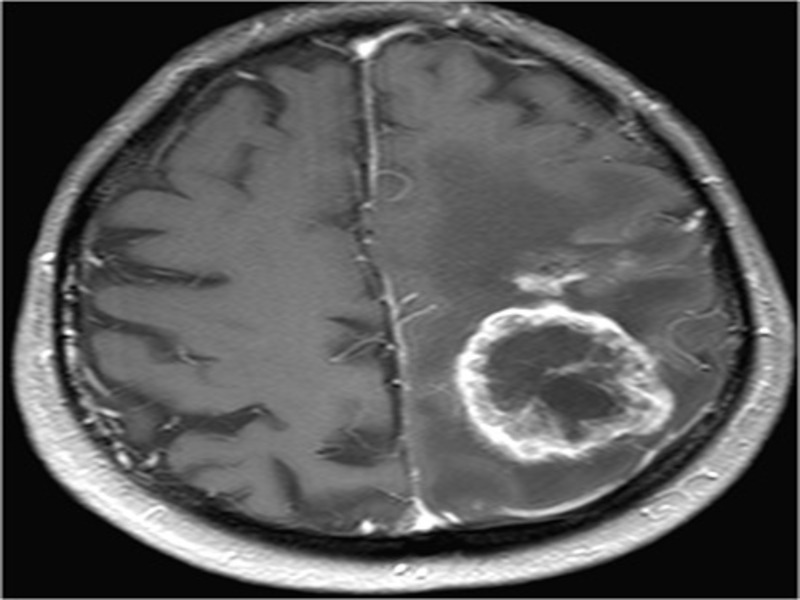tumor: (450, 266, 681, 469)
